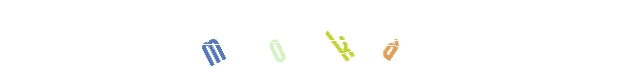A: (322, 0, 402, 80)
K: (275, 0, 355, 80)
M: (173, 0, 253, 80)
O: (255, 0, 335, 80)
